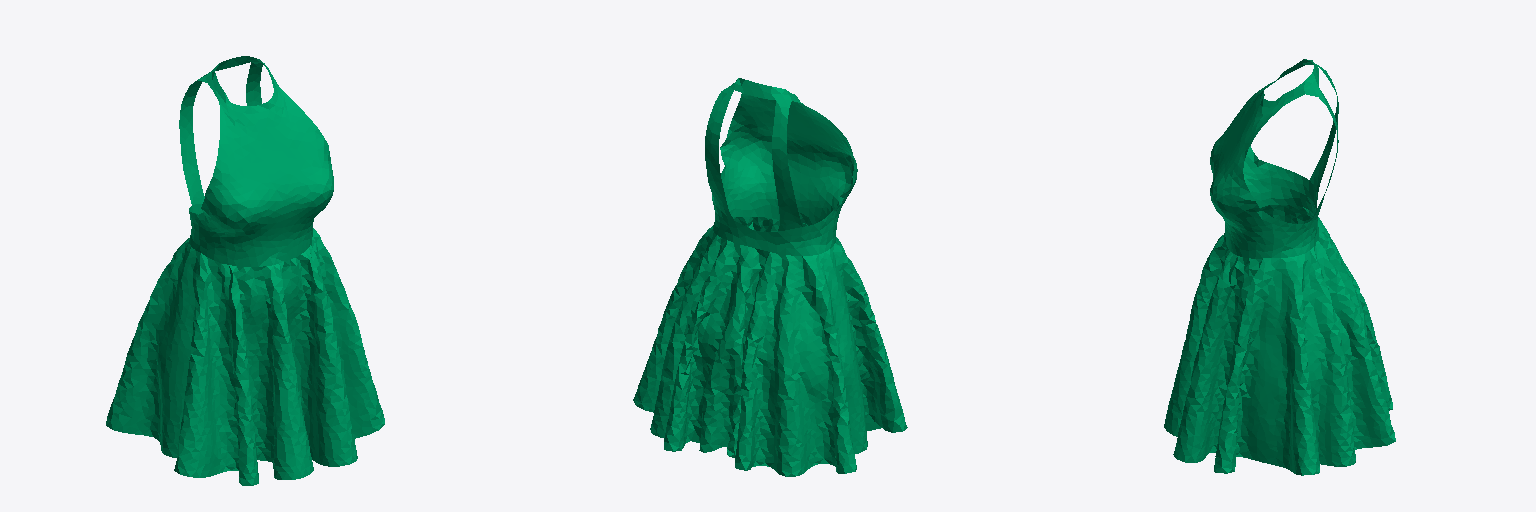
3 views of the same model, side by side, from view 1: azimuth 30°, elevation 25°; view 2: azimuth 150°, elevation 25°; view 3: azimuth 270°, elevation 25° (orthographic).
Visible parts, largest first — view 1: medium_makehuman_green_noinside:polySurface2 medium_makehuman_gr; view 2: medium_makehuman_green_noinside:polySurface2 medium_makehuman_gr; view 3: medium_makehuman_green_noinside:polySurface2 medium_makehuman_gr.
Part boxes in pixels (bbox=[...]): medium_makehuman_green_noinside:polySurface2 medium_makehuman_gr: bbox=[106, 56, 384, 485]; medium_makehuman_green_noinside:polySurface2 medium_makehuman_gr: bbox=[633, 78, 907, 476]; medium_makehuman_green_noinside:polySurface2 medium_makehuman_gr: bbox=[1164, 59, 1395, 475].
Size of the model in its own units: 5.22 by 7.85 by 4.42.
Materials: 7 (1 with a texture image).